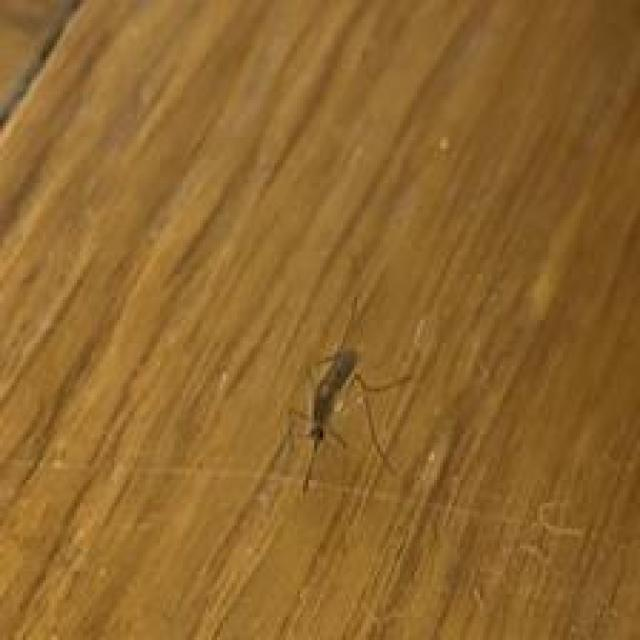Culex: (280, 294, 414, 494)
